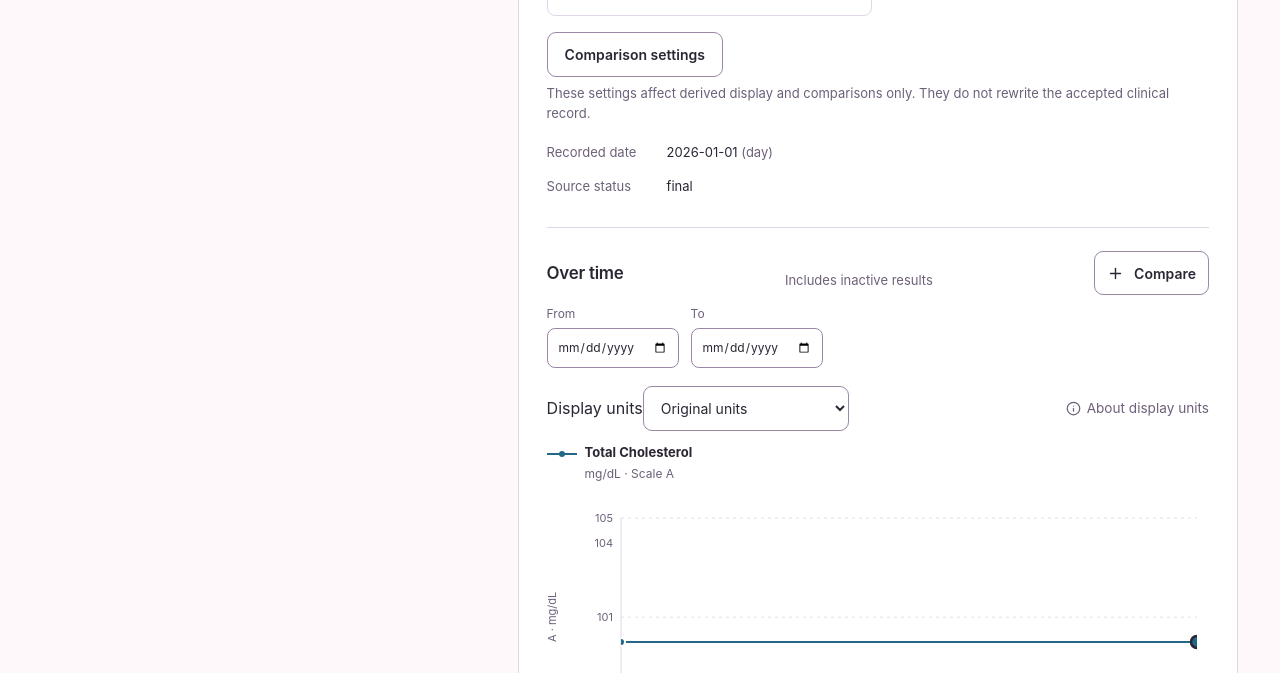
Test: Test Results comparison navigation › keeps family history and comparison requests scoped to the selected person
This screenshot has width=1280, height=673.
(page scrolled)
What coordinates should you click on to do the following:
click the button "Compare"
I would click on:
 (1152, 273)
Its box is [1094,251,1209,295].
(page scrolled)
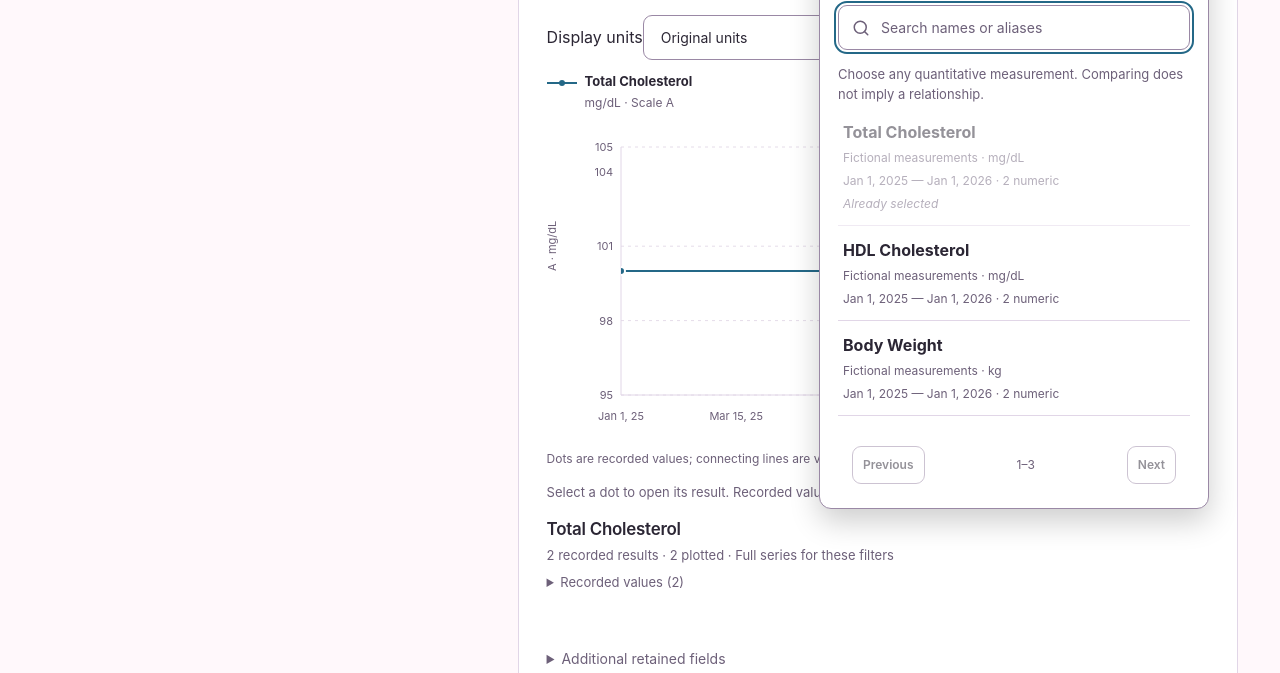
Now the button that starts with "HDL Cholesterol" is shown, box [838,226,1190,321]
